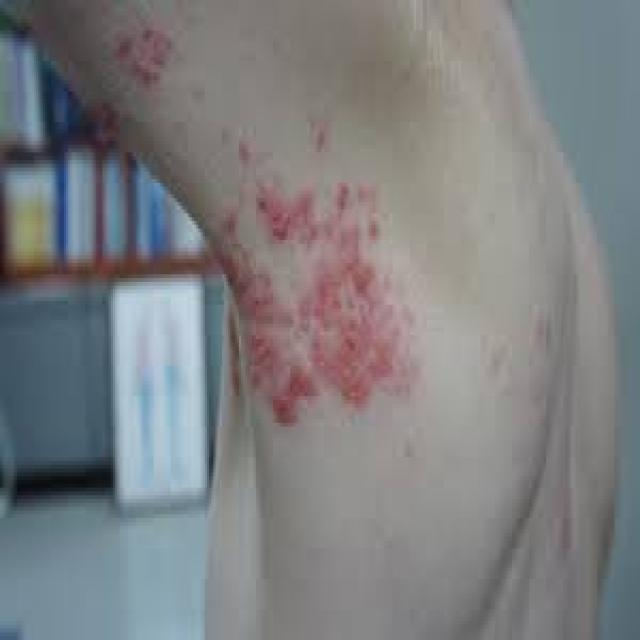Shingles: (215, 107, 422, 426), (120, 23, 174, 86), (86, 94, 123, 146)
